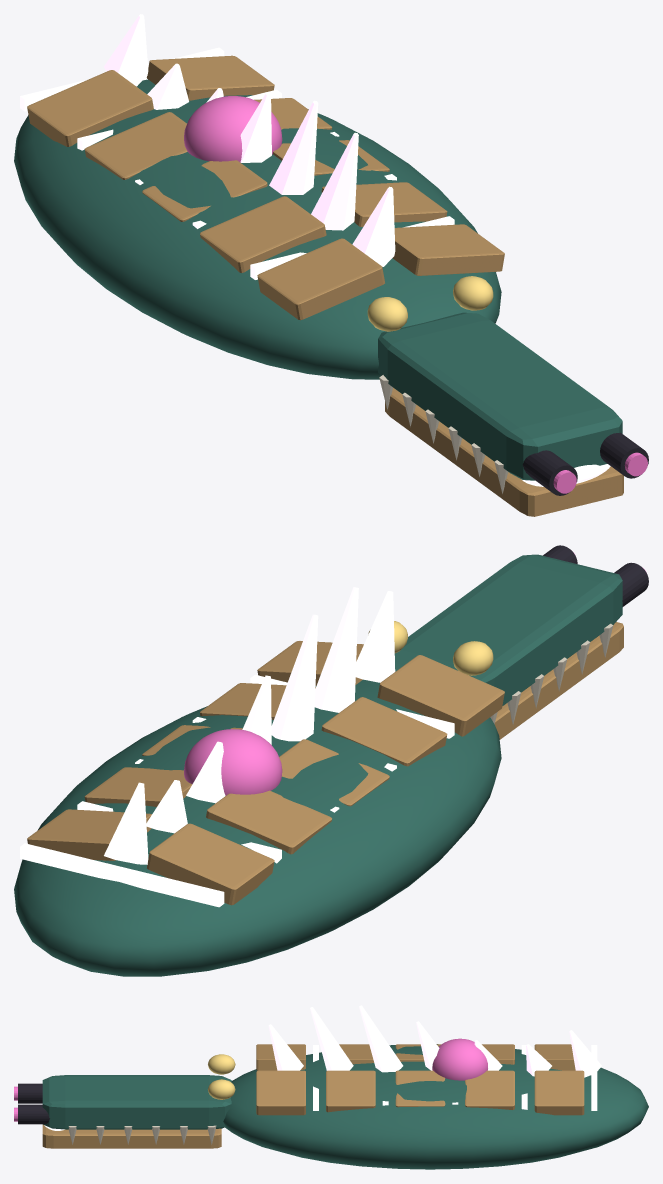
File: SM_Keeper_Sobek_Body.fbx
3 views of the same model, one above another, from view 1: azimuth 30°, elevation 25°; view 2: azimuth 150°, elevation 25°; view 3: azimuth 270°, elevation 25° (orthographic). The views are drawn at different scales.
Parts seen in each view (by area): view 1: SM_Keeper_Sobek_Body; view 2: SM_Keeper_Sobek_Body; view 3: SM_Keeper_Sobek_Body.
Part boxes in pixels (<box>): SM_Keeper_Sobek_Body: <box>14,14,648,516</box>; SM_Keeper_Sobek_Body: <box>14,545,648,976</box>; SM_Keeper_Sobek_Body: <box>14,1005,648,1169</box>.
Size of the model in its own units: 2.3 by 1.57 by 6.39.
